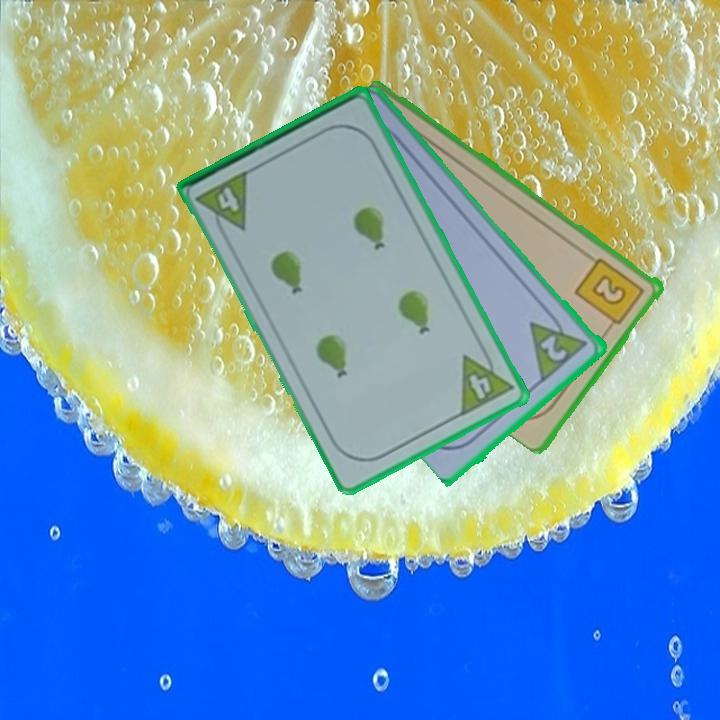2b: (572, 254, 648, 333)
2p: (526, 305, 592, 384)
4p: (457, 342, 517, 419), (192, 167, 252, 241)
